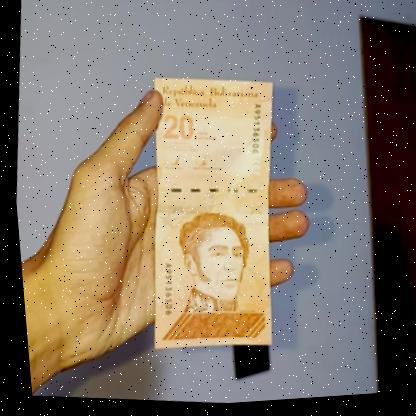twenty-front-vef: (123, 71, 293, 363)
